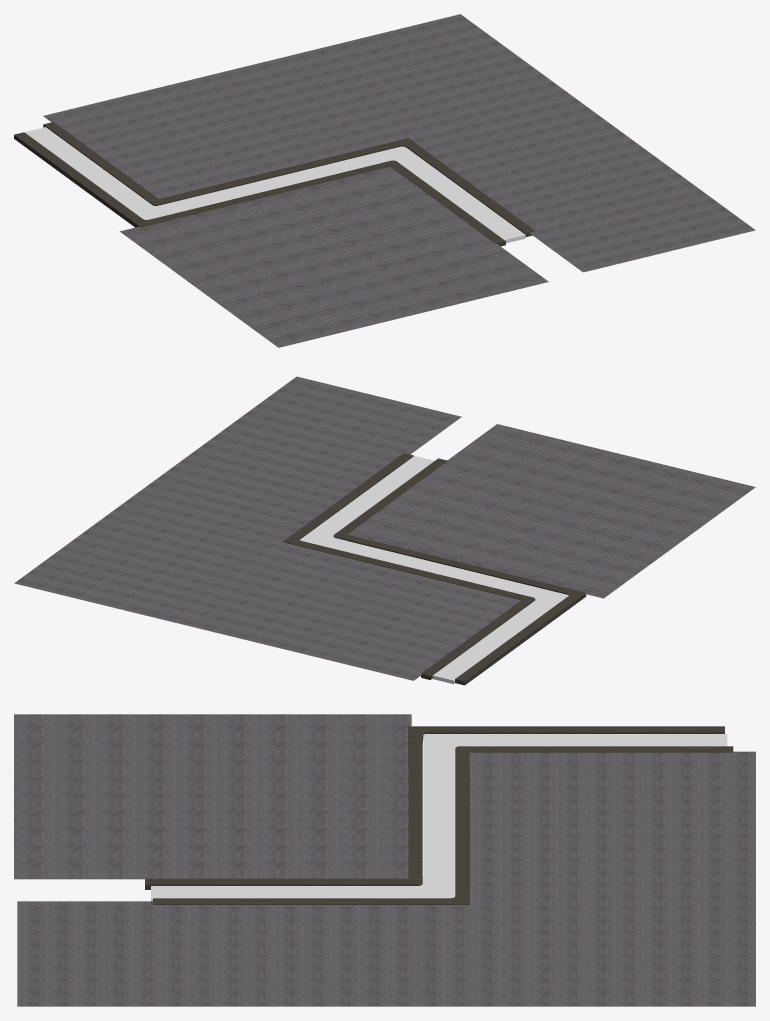
Rendered from road_modified.fbx.
The picture shows the model from 3 angles, top to bottom: view 1: azimuth 30°, elevation 25°; view 2: azimuth 150°, elevation 25°; view 3: azimuth 270°, elevation 25°; orthographic projection. The views are drawn at different scales.
Parts seen in each view (by area): view 1: Plane.008, Plane, Cube.005, Cube.006, Cube.007; view 2: Plane.008, Plane, Cube.005, Cube.006, Cube.007; view 3: Plane.008, Plane, Cube.005, Cube.006, Cube.007.
Part boxes in pixels (x1,y1,x2,y2): Plane.008: (43,14,755,272); Plane: (120,166,548,347); Cube.005: (14,122,534,246); Cube.006: (213,146,525,243); Cube.007: (25,127,224,219); Plane.008: (14,376,520,680); Plane: (347,424,755,598); Cube.005: (283,453,586,685); Cube.006: (300,456,492,584); Cube.007: (432,576,568,684); Plane.008: (17,751,755,1006); Plane: (14,714,411,879); Cube.005: (145,726,733,904); Cube.006: (151,783,455,901); Cube.007: (423,734,727,782).
Bounding box in the file's own units: 15456 × 147 × 16600.
